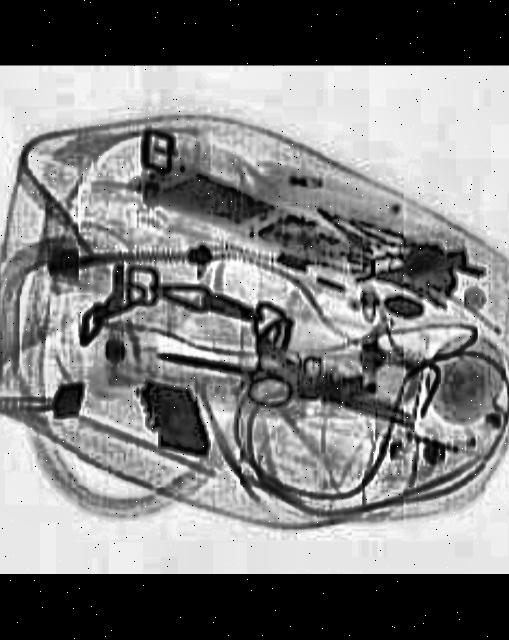Scissors: (148, 330, 300, 414)
